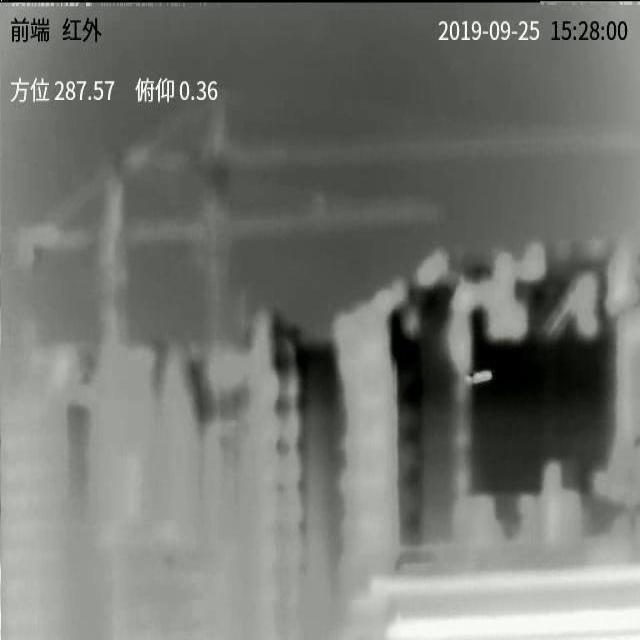drone: (464, 370, 492, 385)
